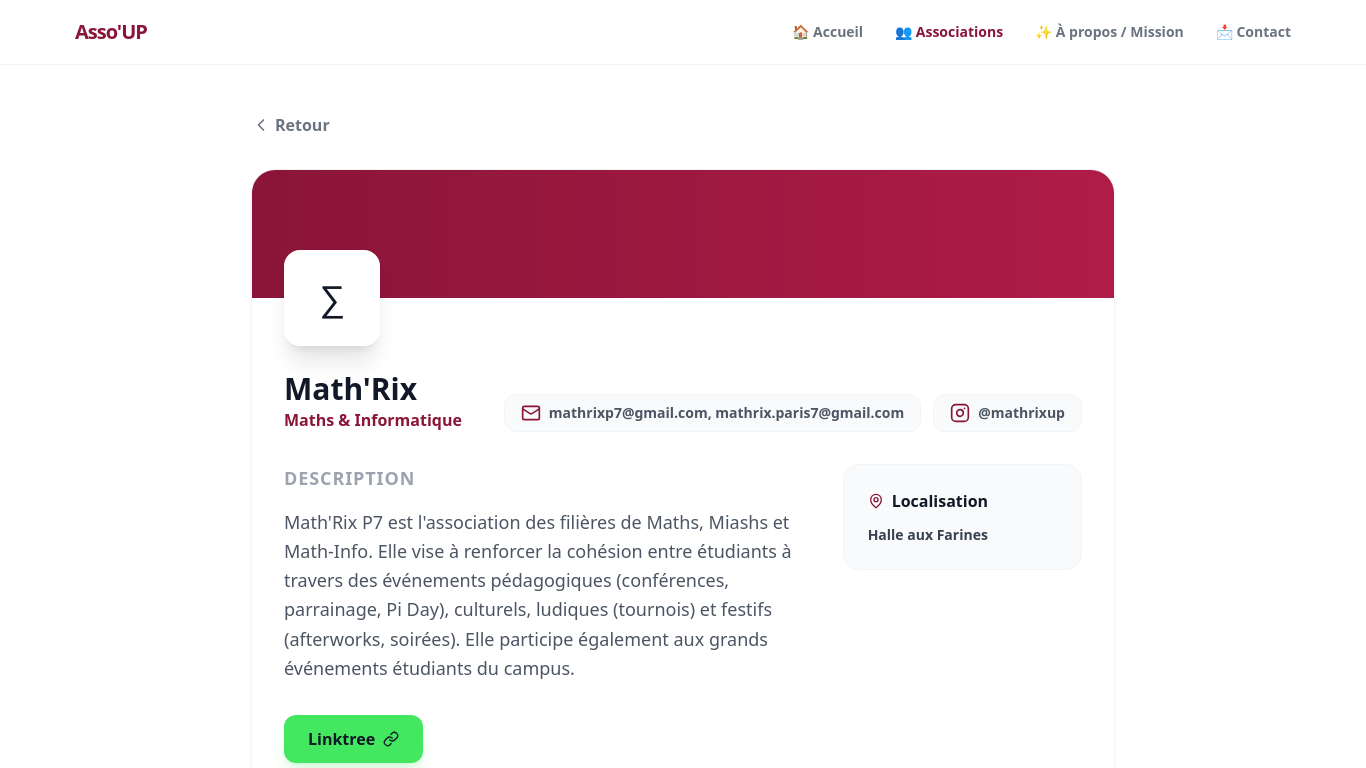
Test: une fiche partagée reste ouverte après remontage et Retour ouvre l’annuaire
Check: the heading "Math'Rix" is shown, box x1=284 y1=368 x2=417 y2=409
What coordinates should you click on to do the following:
click the button "Retour"
I would click on:
 (290, 125)
Its box is x1=251 y1=113 x2=330 y2=137.
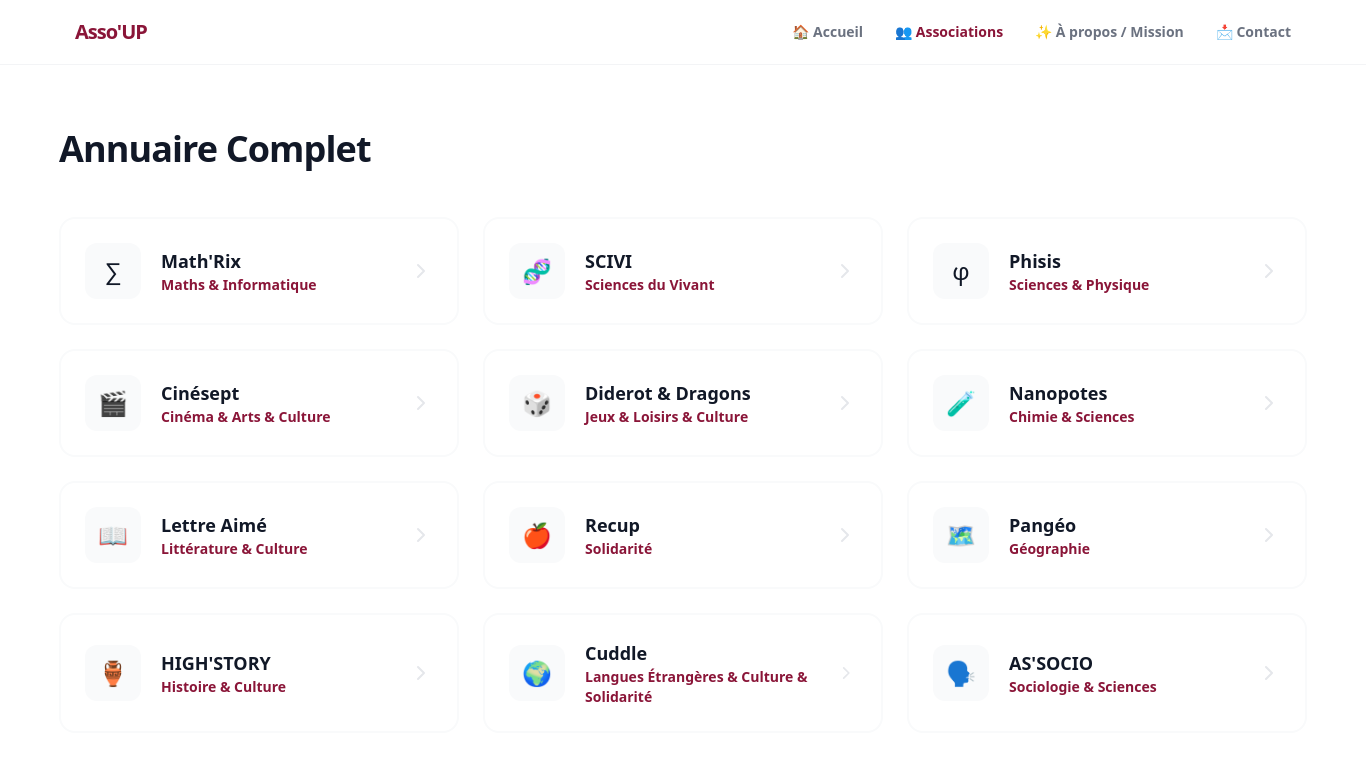
Check: the heading "Annuaire Complet" is shown, box x1=59 y1=124 x2=371 y2=173
